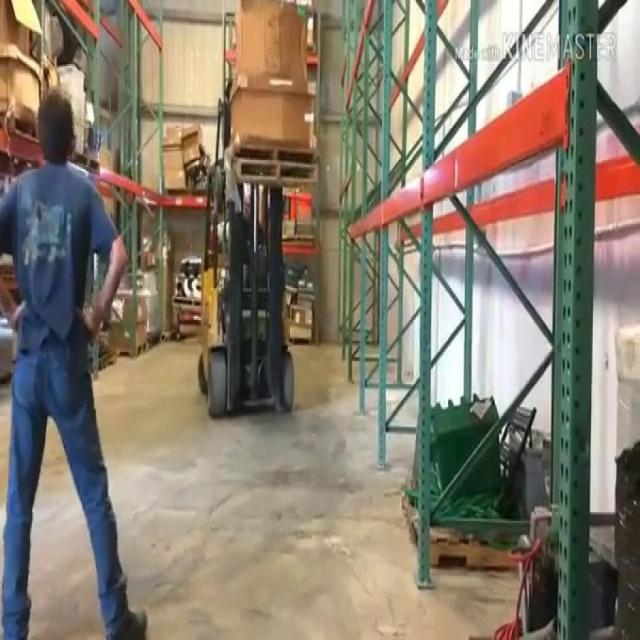forklift: (198, 158, 302, 414)
person: (0, 86, 152, 635), (239, 185, 268, 260)
